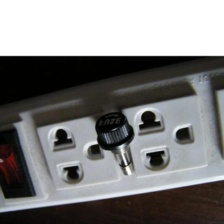three_eye_plug: (0, 54, 224, 216)
